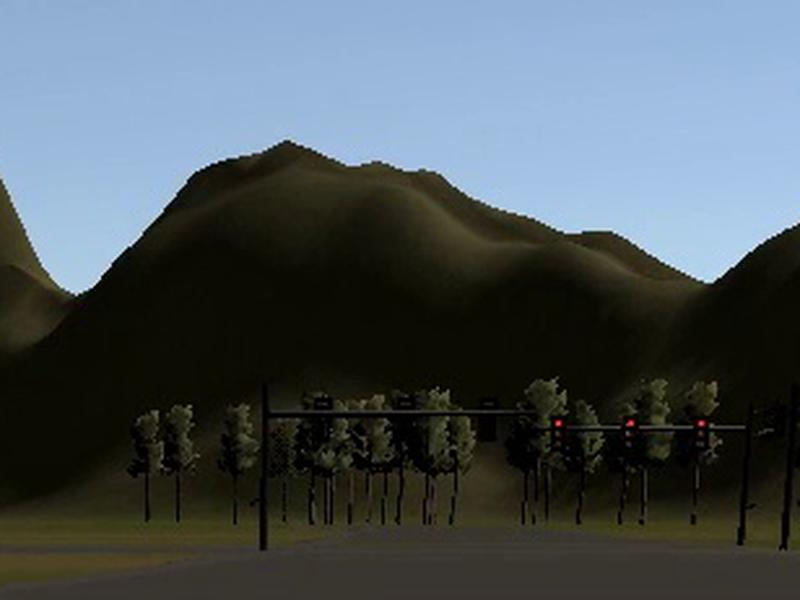Red: (549, 414, 568, 455), (692, 417, 710, 456), (622, 417, 640, 455)
